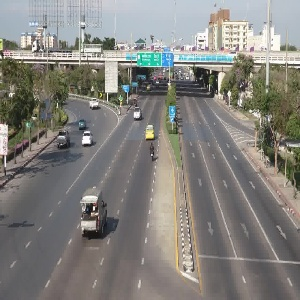motorcycle: (144, 140, 161, 167)
truck: (72, 191, 115, 246)
